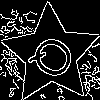Q: (26, 29, 86, 89)
